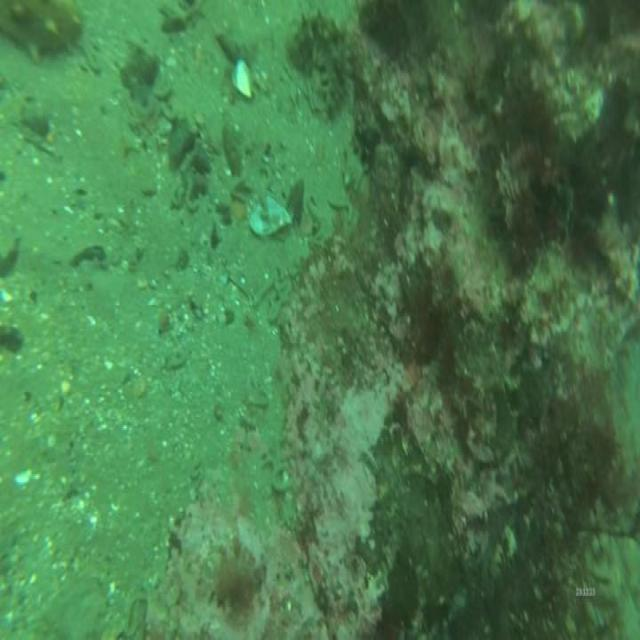holothurian: (283, 8, 351, 122), (0, 0, 87, 58)
